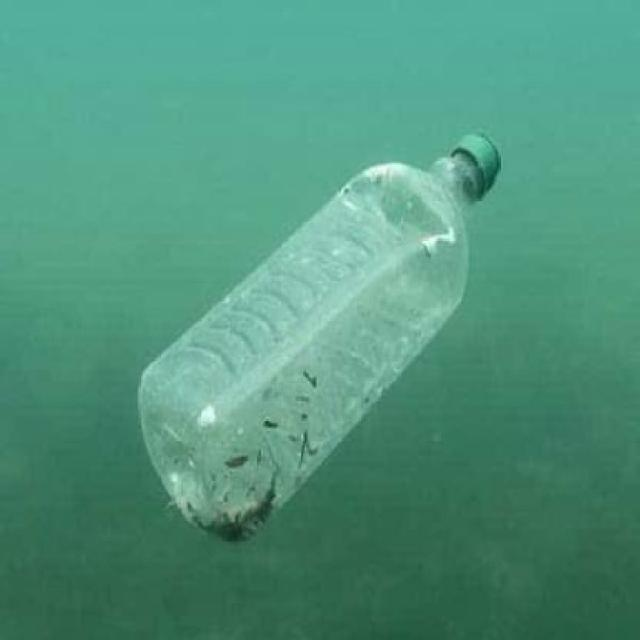bottle: (126, 125, 505, 547)
